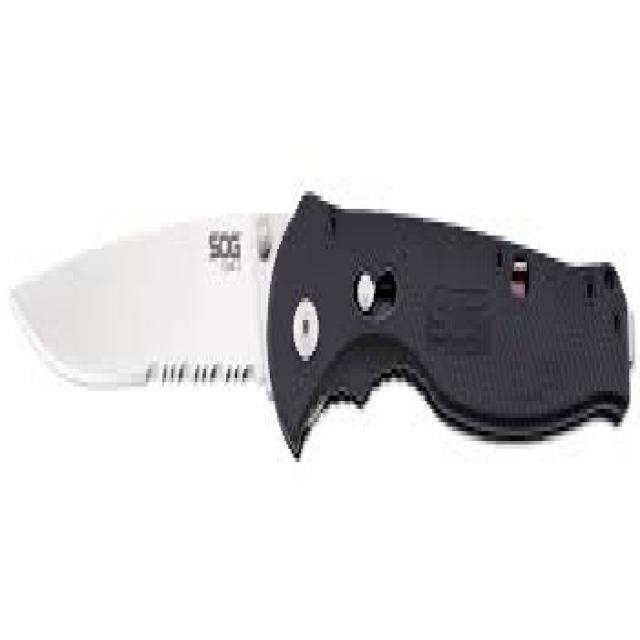knives: (8, 182, 636, 467)
